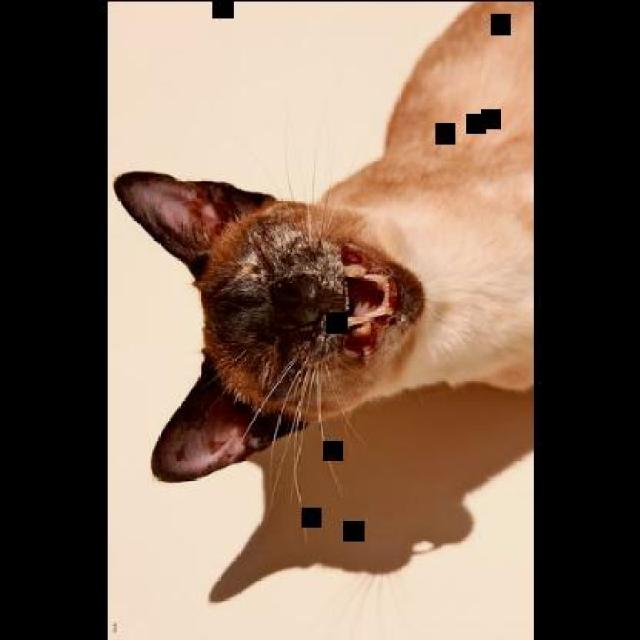unauthorized: (112, 0, 534, 508)
